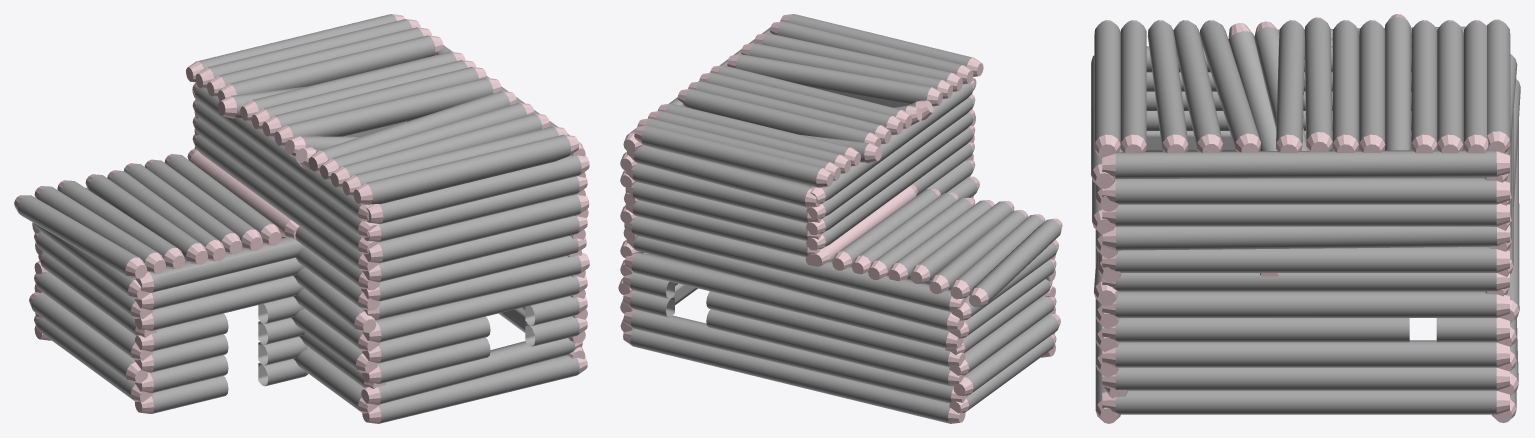
Rendered from IzbaFloorRoof.fbx.
3 renders of one model, left to right at view 1: azimuth 30°, elevation 25°; view 2: azimuth 150°, elevation 25°; view 3: azimuth 270°, elevation 25°, orthographic. The views are drawn at different scales.
Parts seen in each view (by area): view 1: IzbaCaps; view 2: IzbaCaps; view 3: IzbaCaps.
Boxes of the visible parts, x1,y1,x2,y2 form: IzbaCaps: (14, 14, 589, 423); IzbaCaps: (618, 14, 1062, 423); IzbaCaps: (1091, 14, 1520, 423).
Size of the model in its own units: 82.14 by 47.31 by 64.27.
